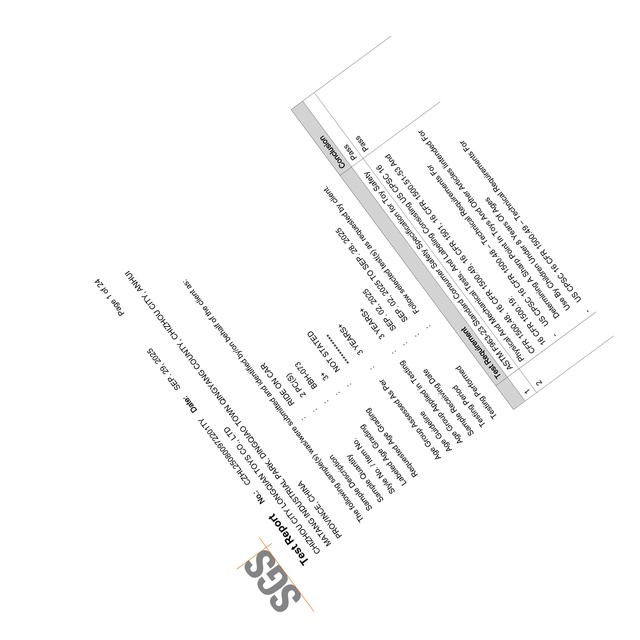sgs: (247, 548, 301, 612)
